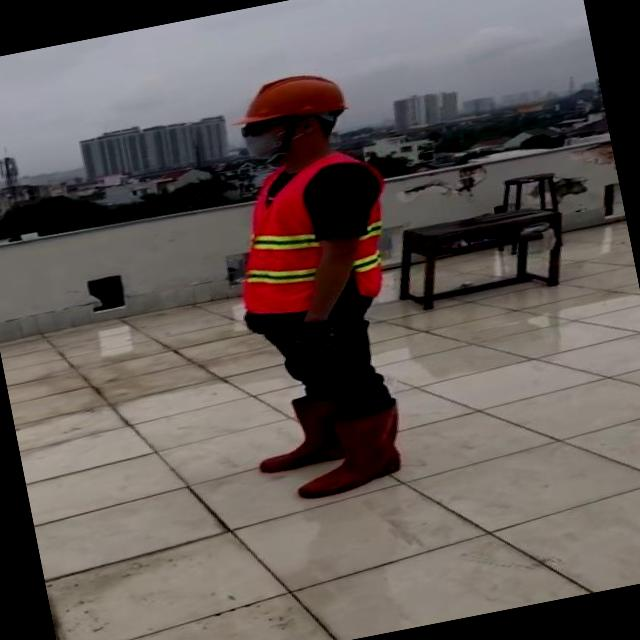boots: (284, 396, 422, 506), (247, 390, 356, 476)
gloves: (277, 304, 349, 372)
helmet: (229, 64, 354, 134)
vest: (223, 143, 406, 318)
